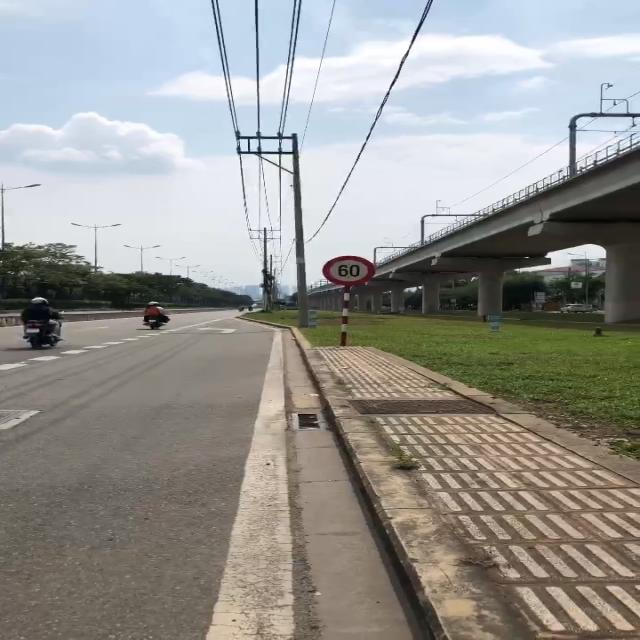Bien bao toc do toi da cho phep: (319, 254, 379, 288)
